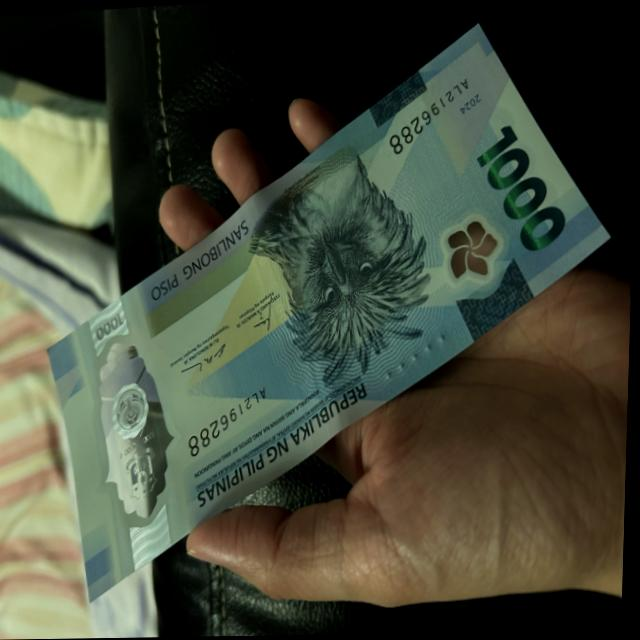clear_window: (93, 309, 180, 527)
eagle: (281, 132, 432, 400)
sampaguita: (449, 207, 503, 284)
